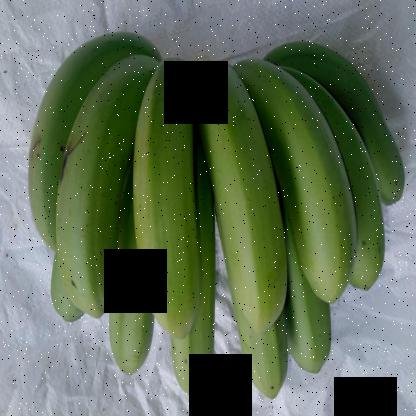freshunripe: (55, 33, 159, 326), (197, 60, 294, 340), (122, 52, 212, 345), (250, 80, 359, 308), (301, 17, 412, 204), (28, 34, 85, 260), (176, 221, 231, 400), (235, 299, 299, 412), (278, 272, 335, 389), (333, 198, 392, 311), (100, 270, 151, 392)
